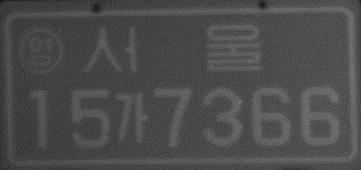1: (25, 85, 55, 151)
3: (201, 86, 244, 150)
5: (67, 85, 112, 150)
6: (251, 83, 292, 150), (299, 84, 342, 147)
7: (150, 84, 195, 150)
가: (110, 88, 151, 146)
서울_D: (79, 20, 263, 79)
영: (17, 26, 64, 79)
